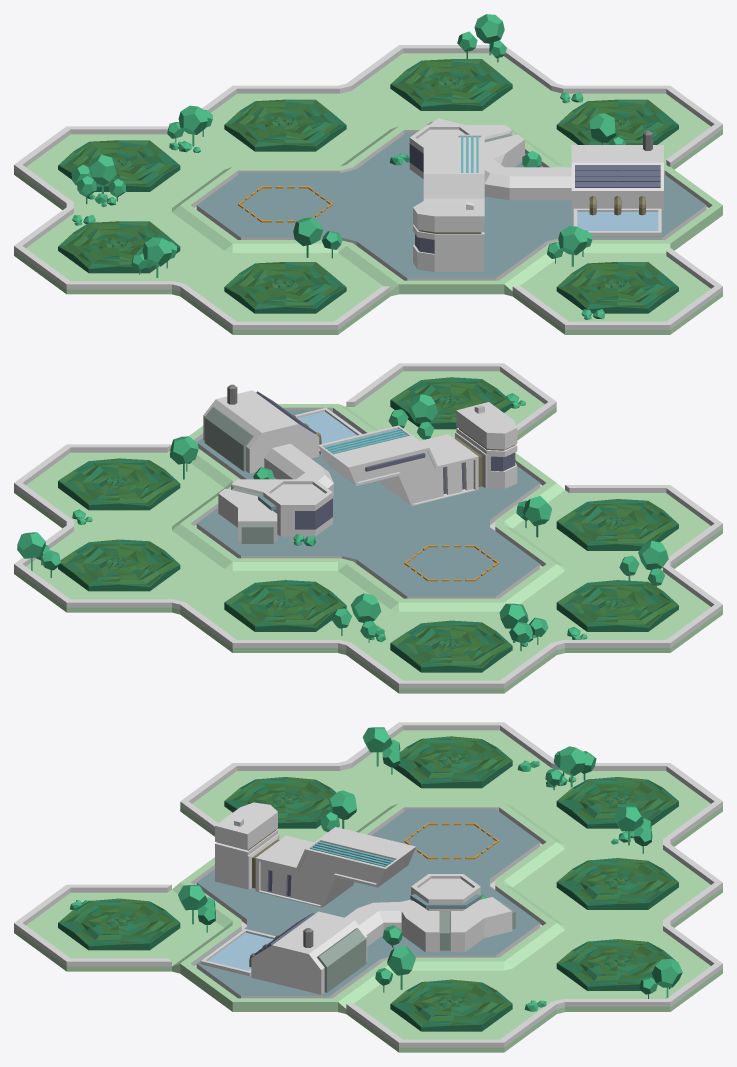
File: Role_Peasant_LV2.fbx
The picture shows the model from 3 angles, top to bottom: view 1: azimuth 30°, elevation 25°; view 2: azimuth 150°, elevation 25°; view 3: azimuth 270°, elevation 25°; orthographic projection.
Visible parts, largest first — view 1: 棱角球.054; view 2: 棱角球.054; view 3: 棱角球.054.
Boxes of the visible parts, <box> form: 棱角球.054: <box>14,14,722,334</box>; 棱角球.054: <box>14,363,722,693</box>; 棱角球.054: <box>14,722,722,1052</box>.
Size of the model in its own units: 684 by 71.56 by 640.
